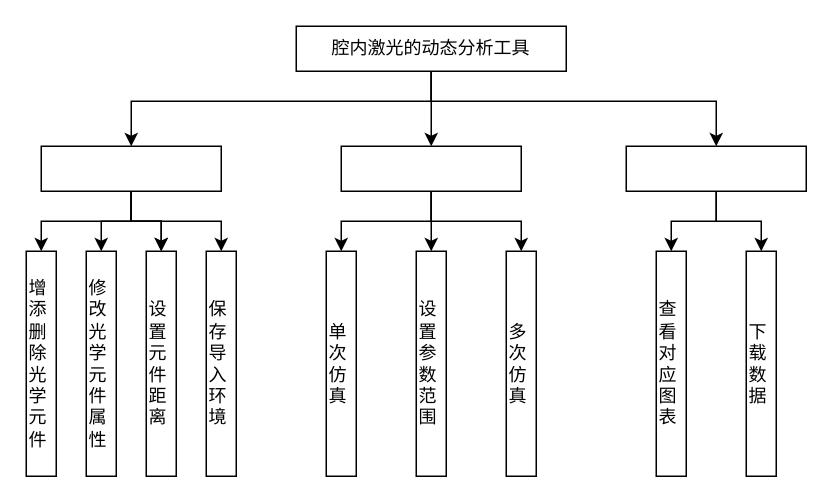
Image size: 833x503. Some labels were removed from this diagram. The centre of each missing label's shape, as x and y in pixels:
仿真计算模块: the point at 430,168
图表查看模块: the point at 715,168
谐振腔设计模块: the point at 130,168
